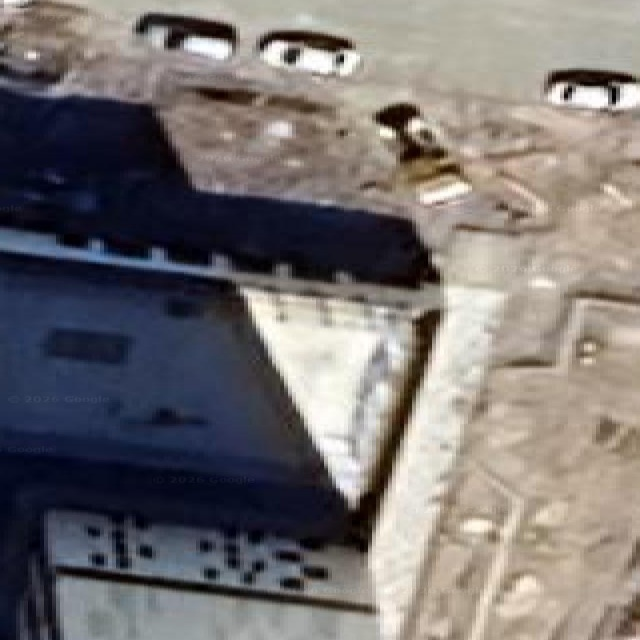car: (372, 103, 471, 204), (0, 0, 87, 87), (135, 12, 236, 60), (256, 31, 359, 75), (372, 101, 444, 160), (0, 27, 71, 85), (544, 68, 639, 111), (396, 156, 471, 206), (0, 43, 64, 84), (372, 103, 420, 152), (417, 169, 471, 204), (0, 0, 35, 8)
